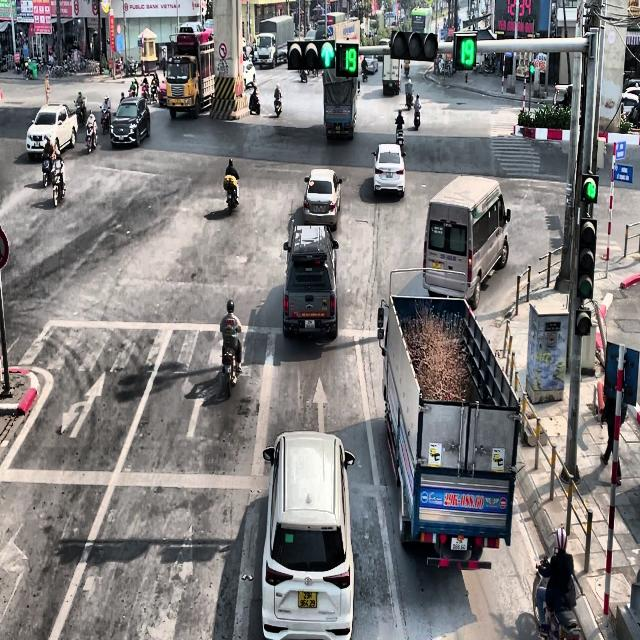lisence_plate: (419, 487, 508, 513), (297, 590, 317, 608), (450, 535, 469, 552), (440, 251, 457, 262), (303, 318, 315, 329), (432, 261, 440, 271), (386, 172, 394, 181), (316, 203, 323, 212), (335, 126, 341, 132), (389, 82, 393, 88)
